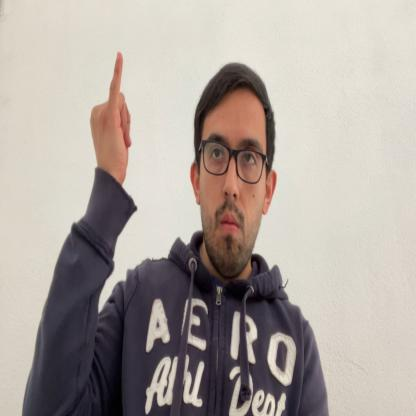I: (89, 50, 131, 195)
